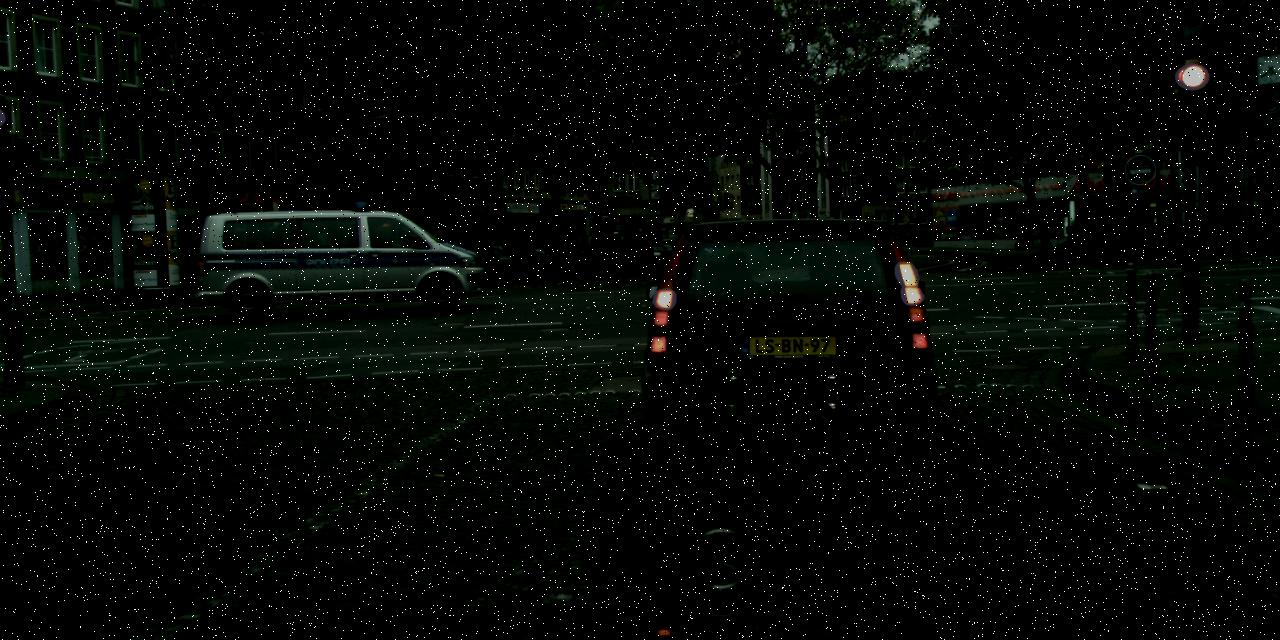ped: (1166, 202, 1190, 260), (182, 248, 200, 292), (1261, 181, 1276, 218), (1111, 220, 1125, 255), (1098, 222, 1112, 256), (644, 243, 654, 268)
